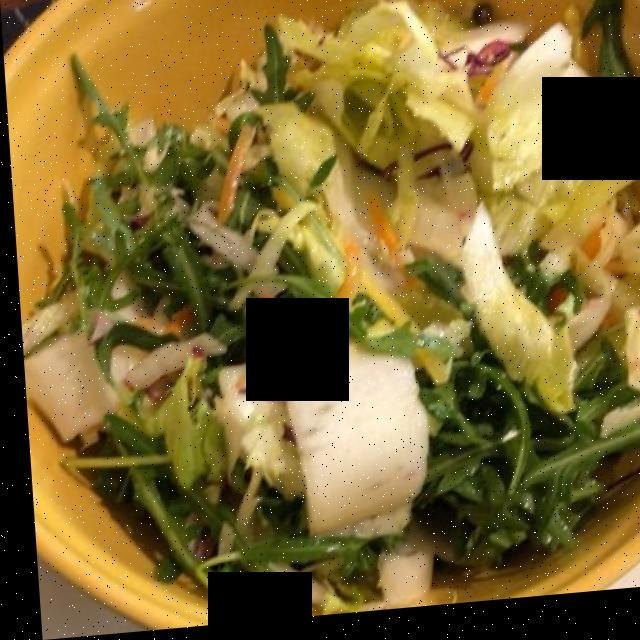salad: (36, 0, 640, 605)
